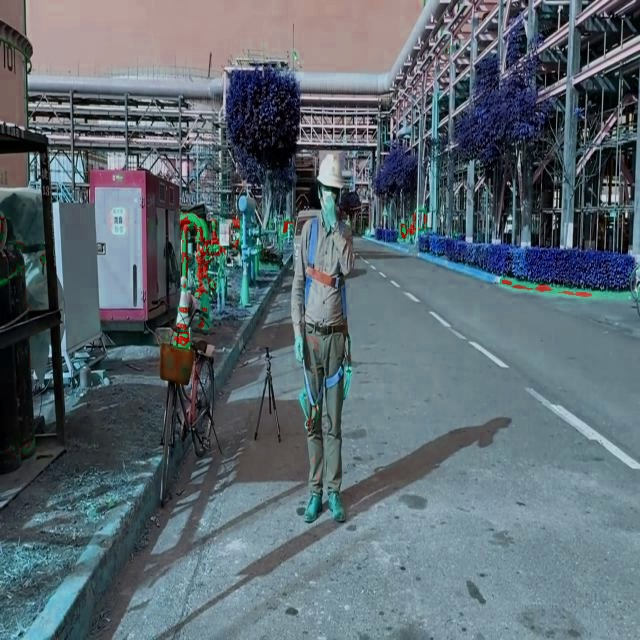safety belt: (284, 220, 368, 403)
